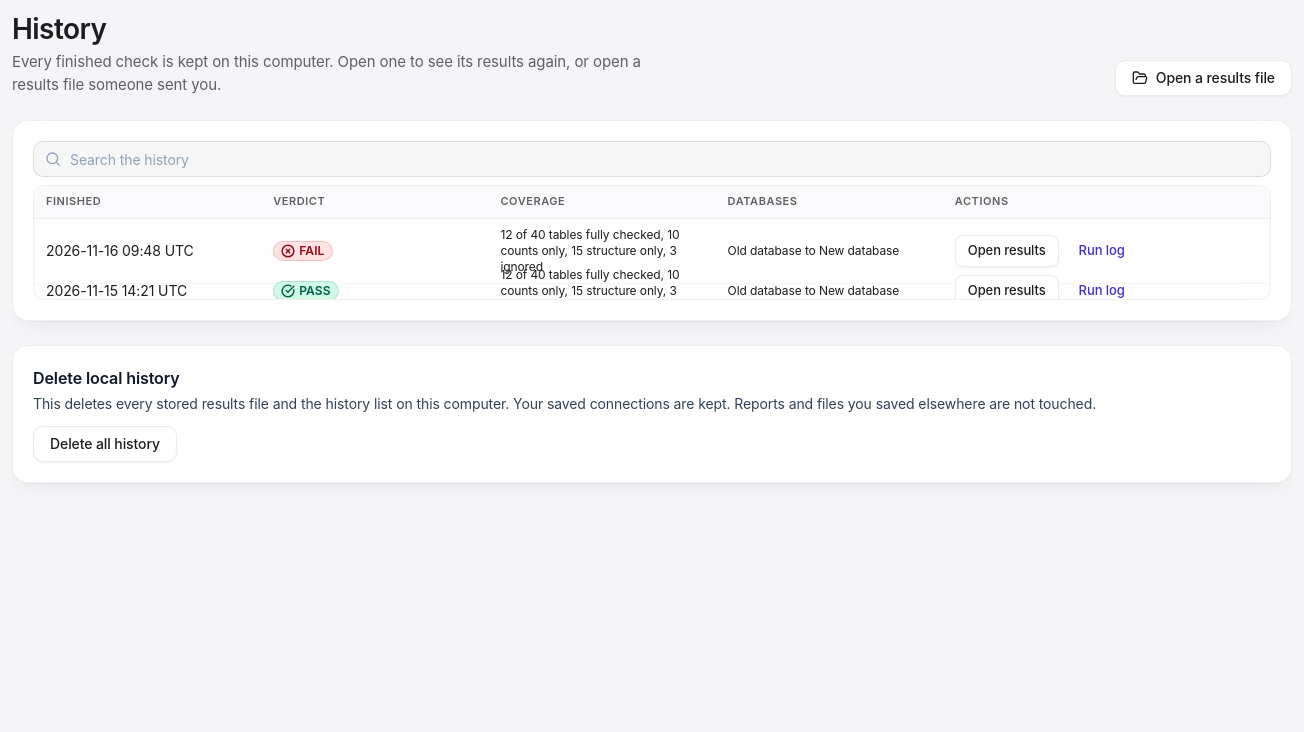
Test: HistoryScreen › shows a plain error when a stored entry cannot be opened
Click the button with aria-label "Open results from". click: (1007, 251)
box: top-left (955, 235), bottom-right (1059, 267)
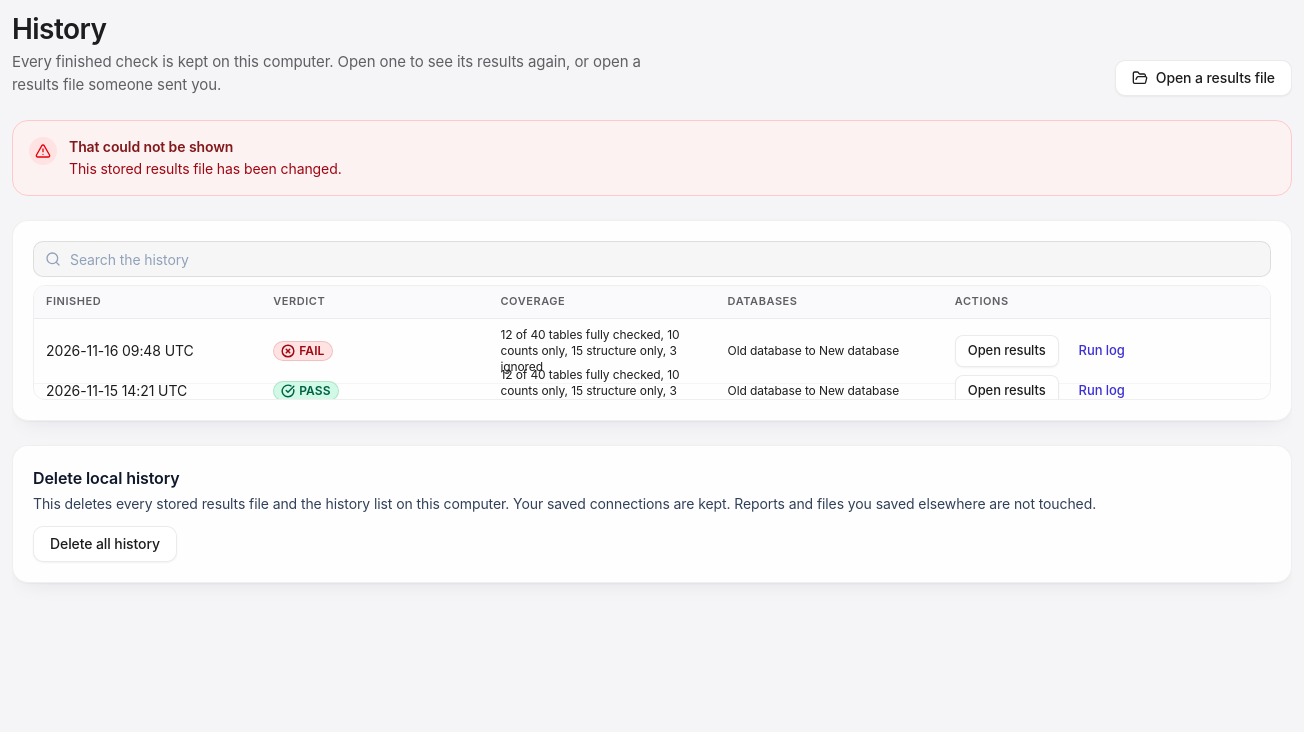
Expected: the message "That could not be shown This stored results file has been changed." is shown, top-left (12, 120), bottom-right (1292, 196)
Expected: the text "This stored results file has been changed." is shown, top-left (69, 159), bottom-right (342, 179)
